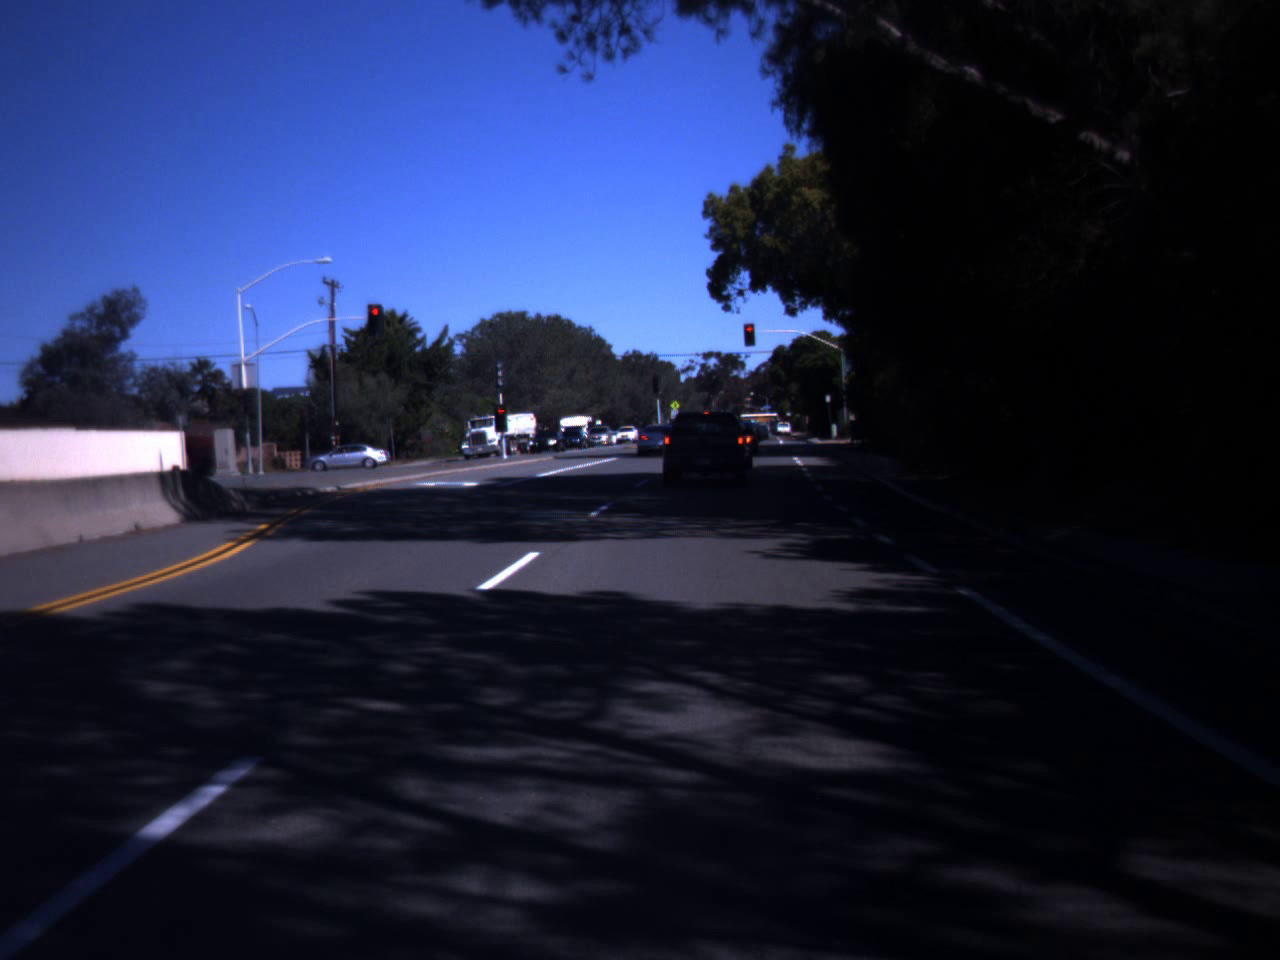stop: (368, 306, 383, 328)
